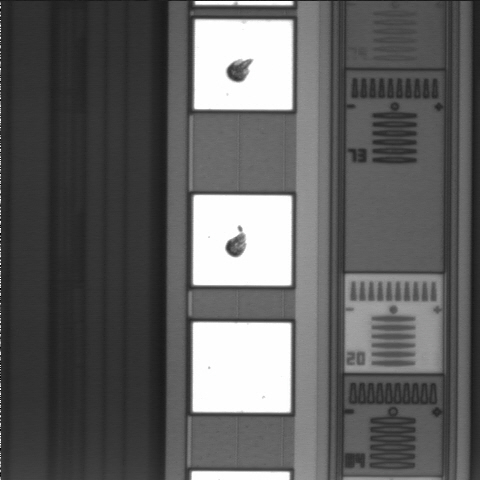pad: (193, 195, 292, 286), (194, 20, 293, 110), (193, 322, 291, 412)
